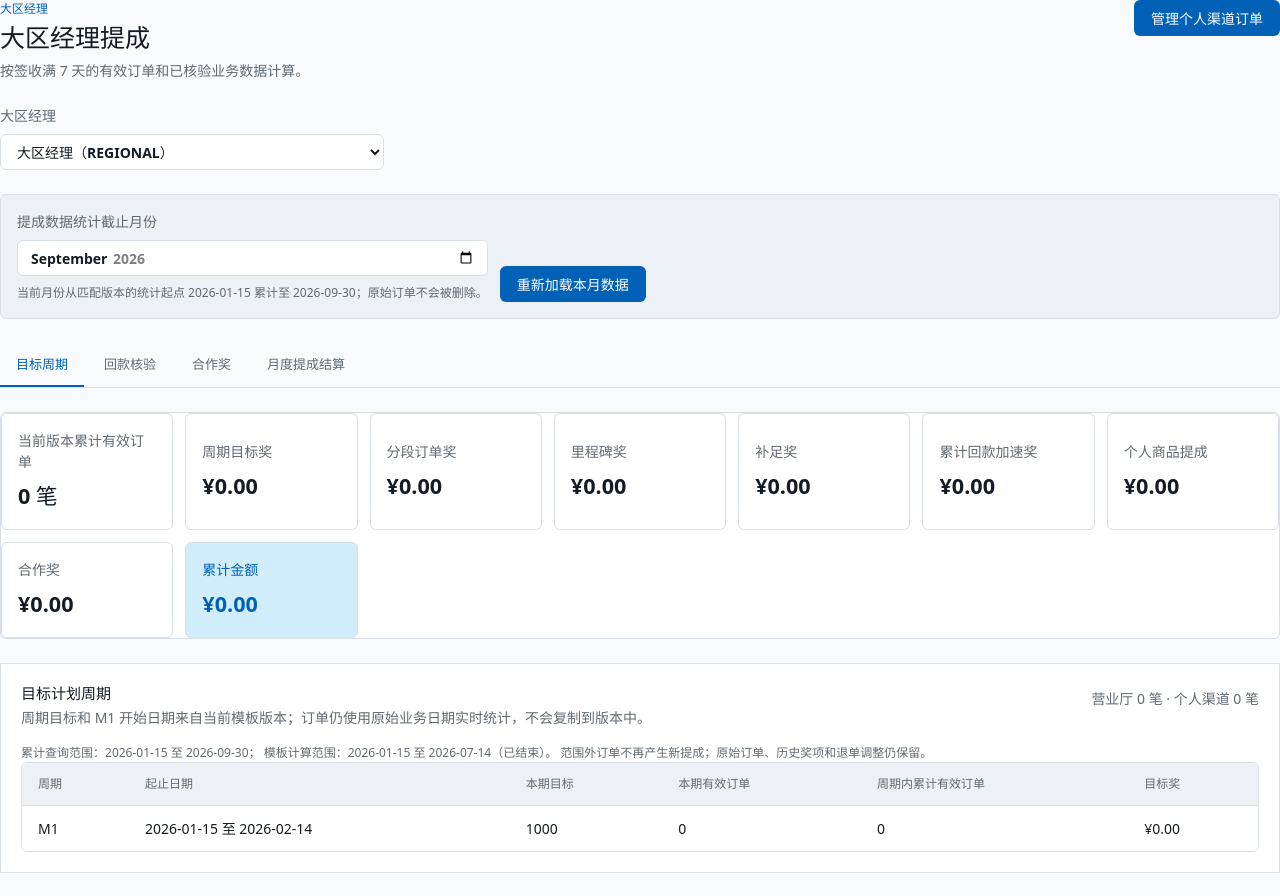
Test: 大区经理目标周期 › 展示已启用的目标计划周期，并明确统计截止月份
The image size is (1280, 896).
Expected: the heading "目标计划周期" is shown, left=21, top=683, right=111, bottom=703
Expected: the text "2026-01-15 至 2026-02-14" is shown, left=129, top=806, right=510, bottom=851
Replace the text in the field labelled "提成数据统计截止月份" with "2026-08" at (252, 258), box left=17, top=240, right=488, bottom=276
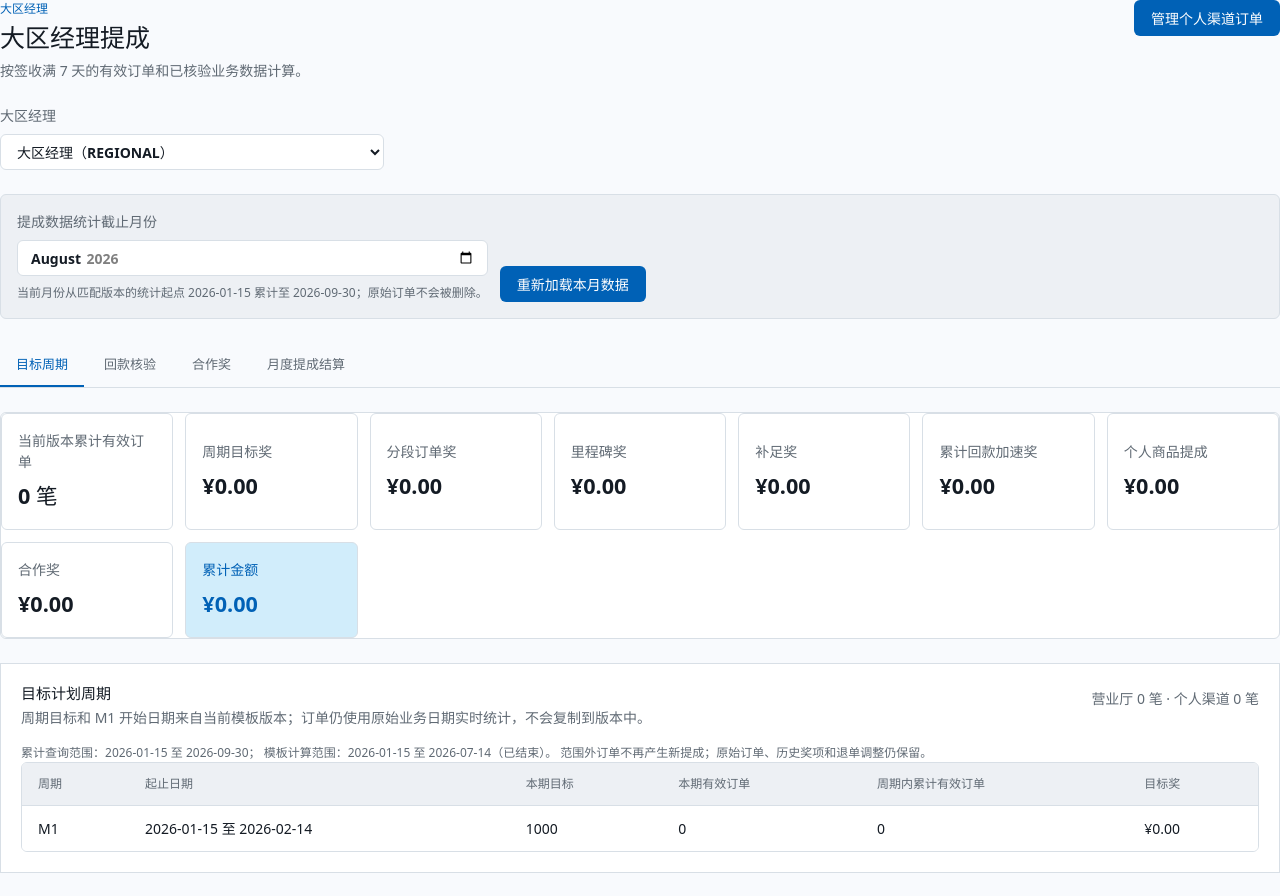
Click the button "回款核验" at (130, 365), box left=88, top=343, right=172, bottom=387
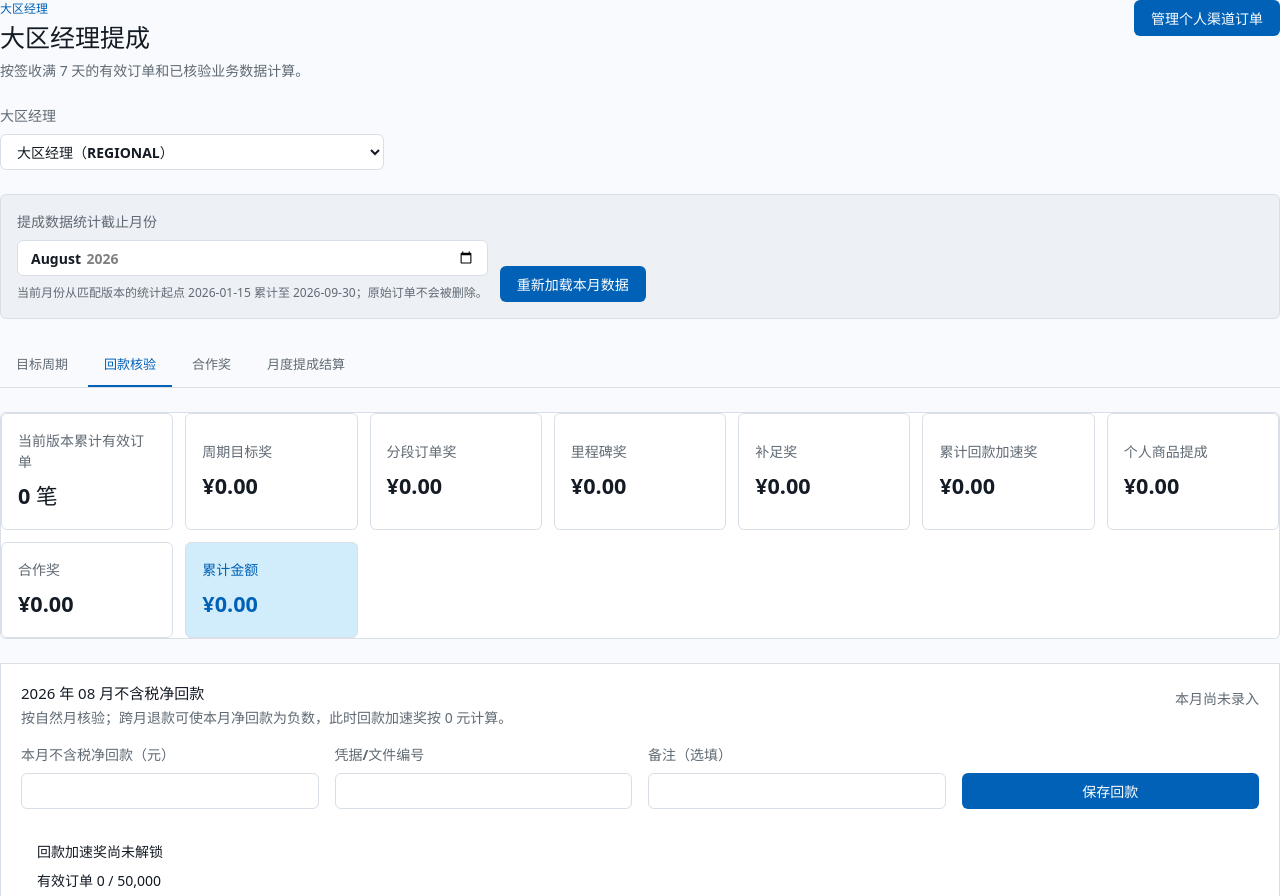
Expected: the heading "2026 年 08 月不含税净回款" is shown, left=21, top=683, right=204, bottom=703
Click the button "月度提成结算" at (306, 365), box left=251, top=343, right=361, bottom=387
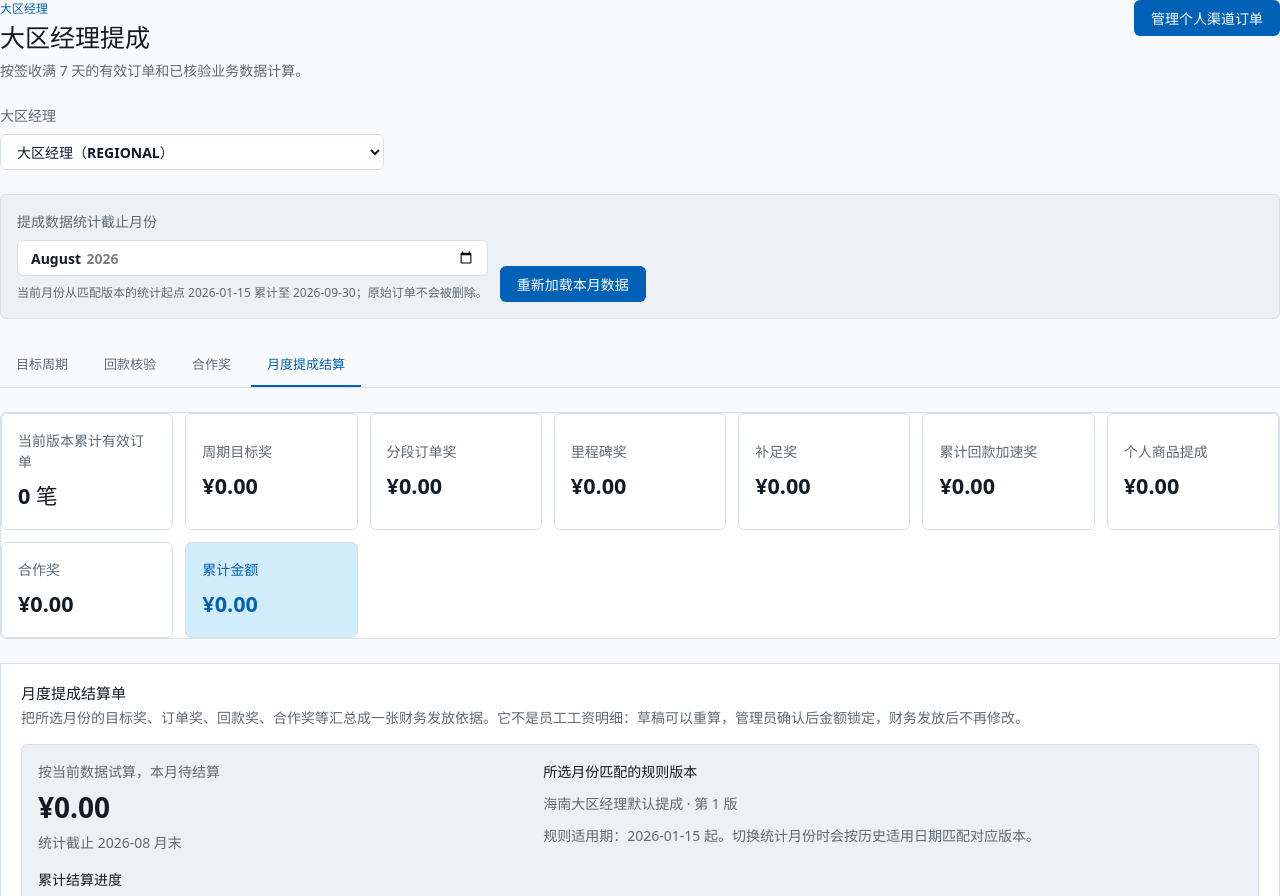
Expected: the heading "月度提成结算单" is shown, left=21, top=683, right=126, bottom=703
Expected: the text "它不是员工工资明细" is shown, left=21, top=708, right=1029, bottom=727
Expected: the text "海南大区经理默认提成 · 第 1 版" is shown, left=543, top=794, right=738, bottom=813
Click the button "目标周期" at (42, 365), box left=0, top=343, right=84, bottom=387
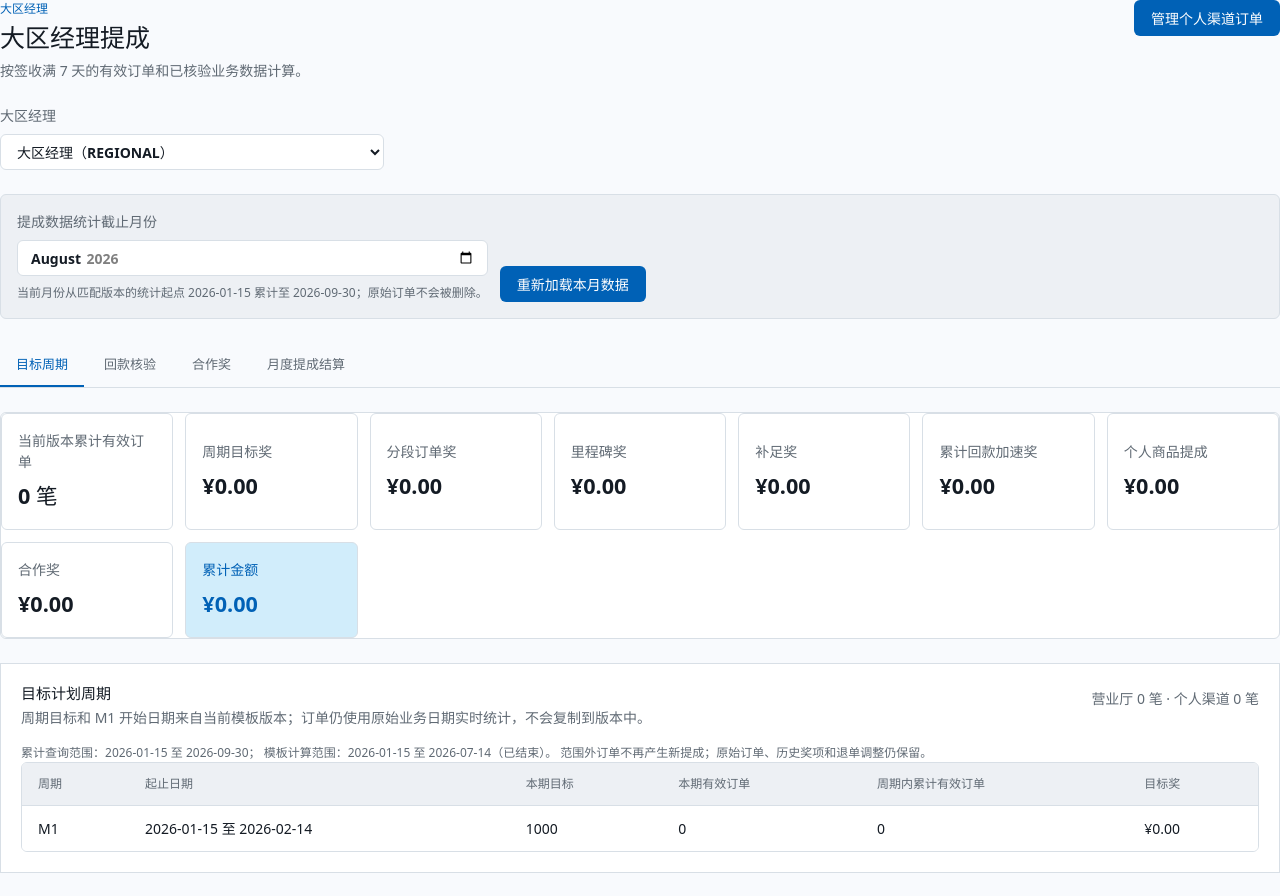
Expected: the heading "目标计划周期" is shown, left=21, top=683, right=111, bottom=703
